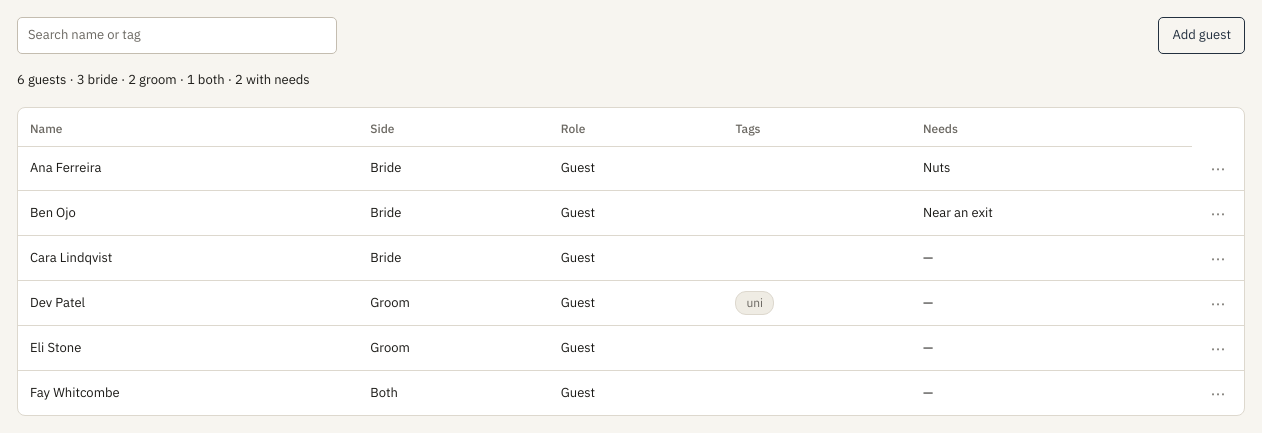
search (C23) › trims a trailing space from the query rather than matching nothing
Type "Ana " into the field labelled "Search name or tag" at coordinates (177, 35), box [17,17,337,54]
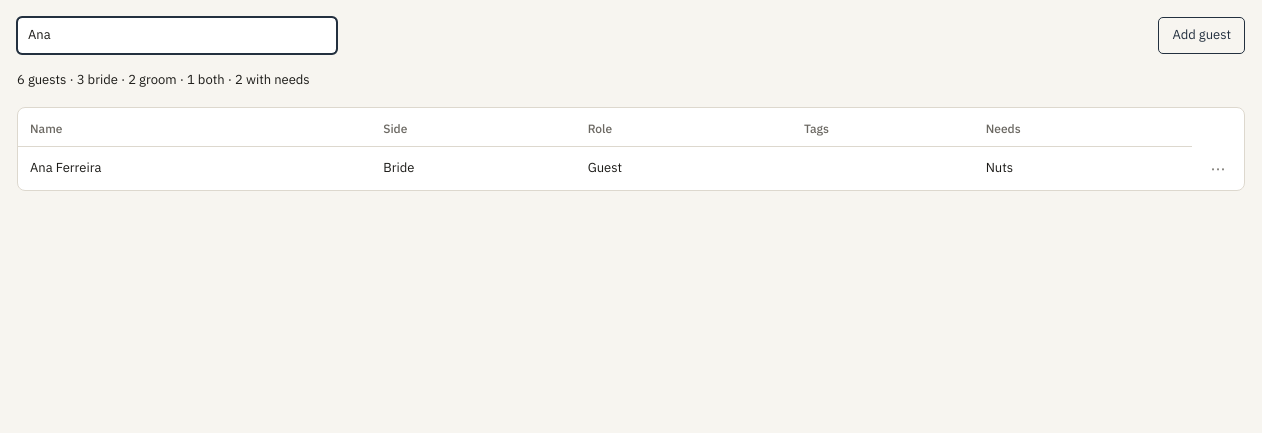
Expected: the text "Ana Ferreira" is shown, [18,146,371,190]
Result: the text "Ben Ojo" is gone
